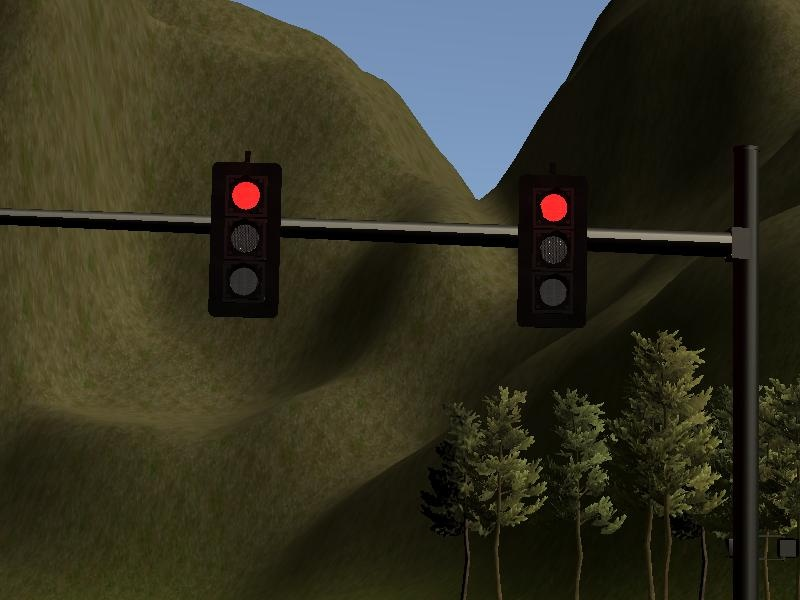red: (206, 156, 285, 323), (513, 170, 591, 333)
